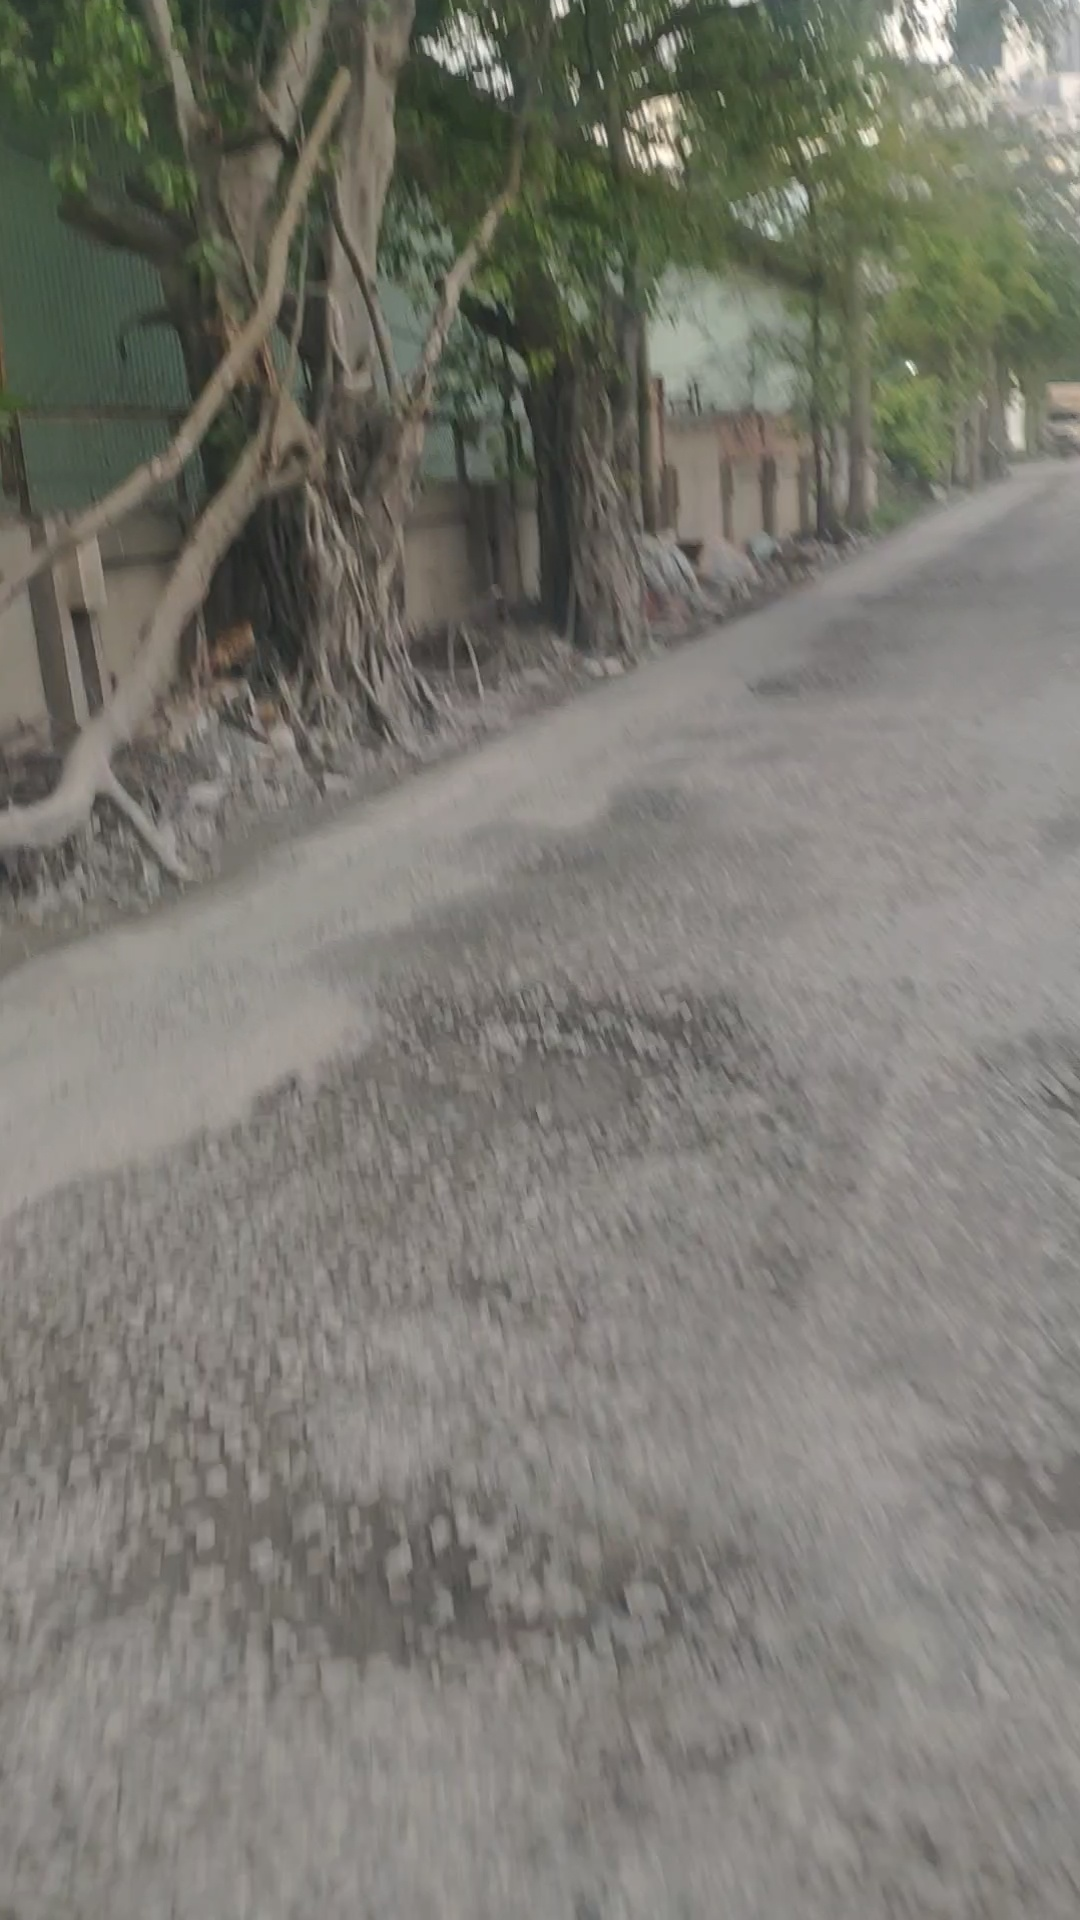hole: (294, 1470, 778, 1656), (411, 982, 840, 1156)
